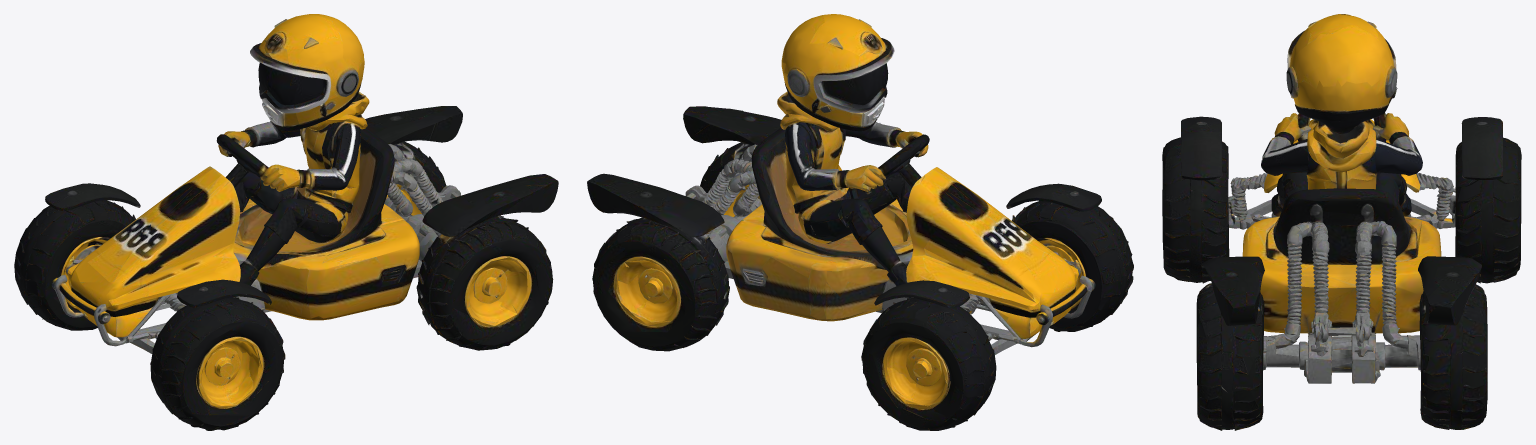
File: yellowKart.3e9e9fe6.glb
3 renders of one model, left to right at view 1: azimuth 30°, elevation 25°; view 2: azimuth 150°, elevation 25°; view 3: azimuth 270°, elevation 25°, orthographic. The views are drawn at different scales.
Parts seen in each view (by area): view 1: chassis_body, wheel_fr, wheel_rr, wheel_rl; view 2: chassis_body, wheel_fl, wheel_rl, wheel_rr; view 3: chassis_body, wheel_rr, wheel_rl.
Part boxes in pixels (<box>): chassis_body: <box>14,14,558,429</box>; wheel_fr: <box>392,215,521,350</box>; wheel_rr: <box>193,297,285,430</box>; wheel_rl: <box>44,200,139,330</box>; chassis_body: <box>587,14,1133,430</box>; wheel_fl: <box>624,219,755,351</box>; wheel_rl: <box>861,297,953,430</box>; wheel_rr: <box>1006,200,1101,331</box>; chassis_body: <box>1163,14,1517,430</box>; wheel_rr: <box>1162,137,1251,283</box>; wheel_rl: <box>1432,139,1521,283</box>.
Size of the model in its own units: 1.9 by 1.33 by 1.28.
Materials: 1 (1 with a texture image).
